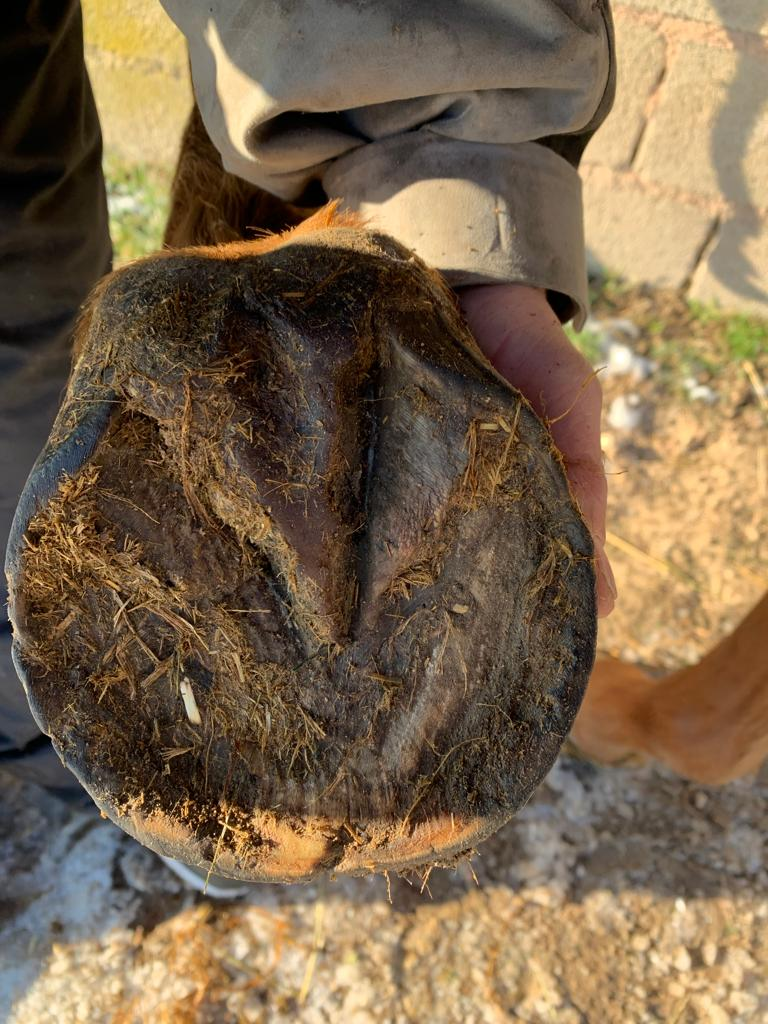horsesole: (5, 332, 599, 882)
